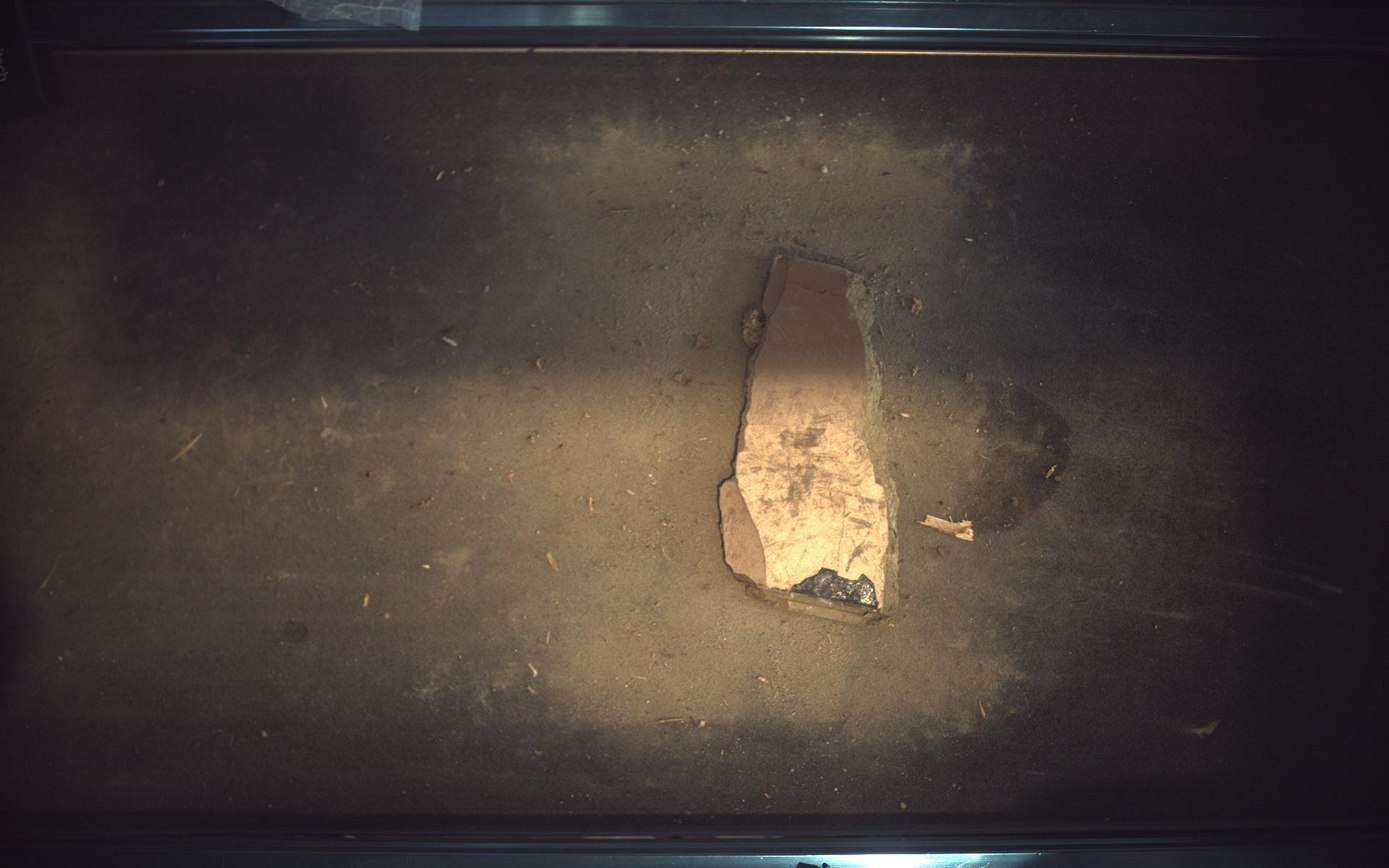wood: (721, 255, 900, 625)
